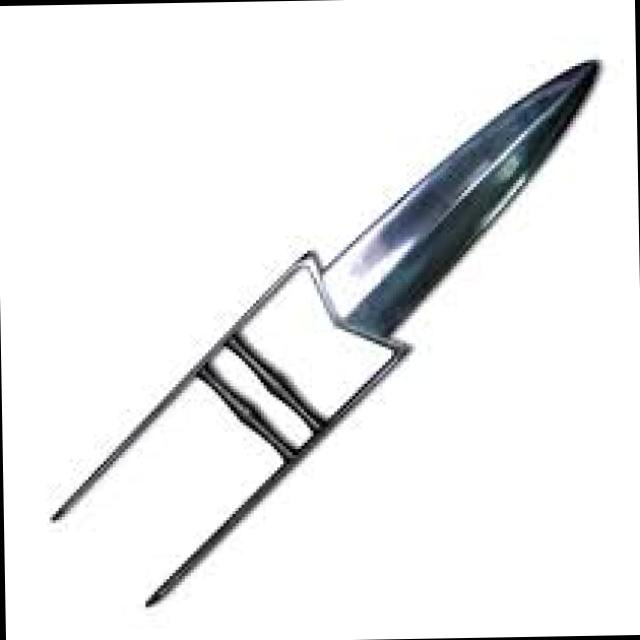Gun: (36, 58, 618, 635)
